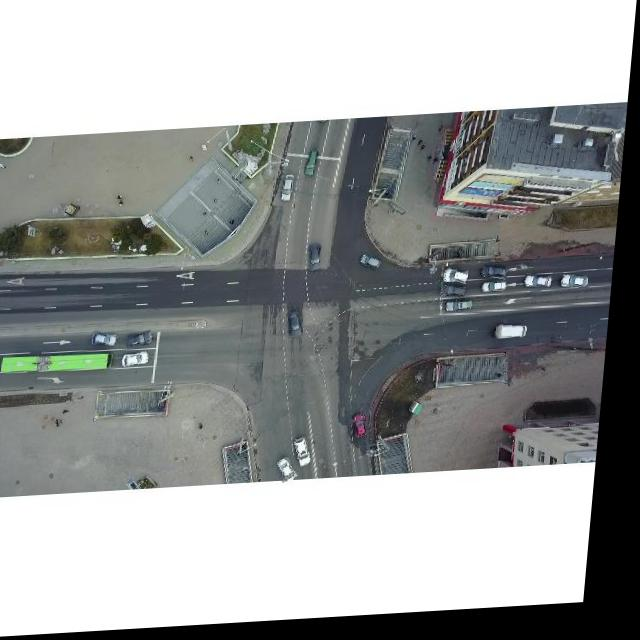vehicle: (301, 441, 321, 471), (285, 459, 307, 486), (502, 329, 535, 346), (363, 257, 389, 276), (448, 273, 476, 290), (131, 334, 160, 350), (294, 314, 310, 343), (360, 417, 377, 444), (530, 280, 560, 295), (97, 333, 125, 349), (487, 271, 515, 287), (567, 281, 595, 297), (128, 354, 157, 369), (313, 248, 327, 277), (446, 289, 473, 304), (284, 178, 298, 206), (450, 305, 479, 318), (308, 154, 322, 179), (487, 286, 513, 299)
